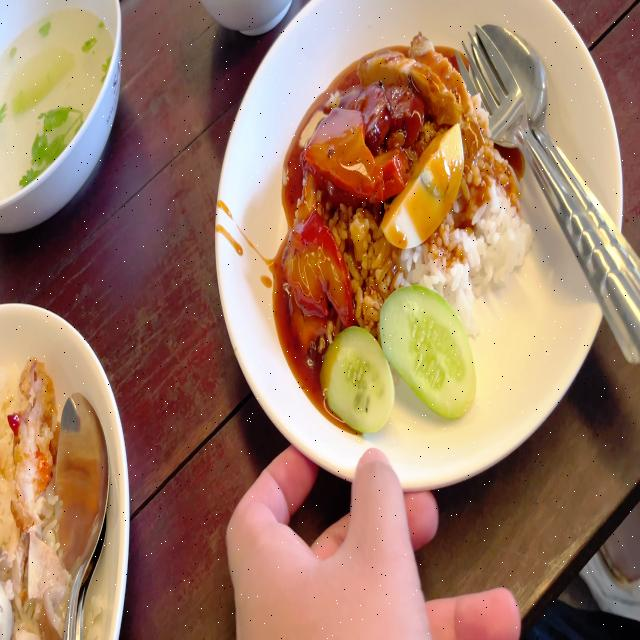boiled_chicken: (2, 532, 65, 640)
boiled_egg: (384, 125, 466, 247)
chainese_sausage: (366, 74, 413, 147)
chicken_rice: (0, 349, 100, 640)
crispy_pork: (377, 29, 483, 150)
cucumber: (380, 287, 473, 425), (315, 323, 396, 439)
fried_chicken: (9, 355, 58, 531)
red_pork: (302, 104, 402, 200), (281, 207, 351, 344)
red_pork_and_crispy_pork: (280, 44, 542, 438)
